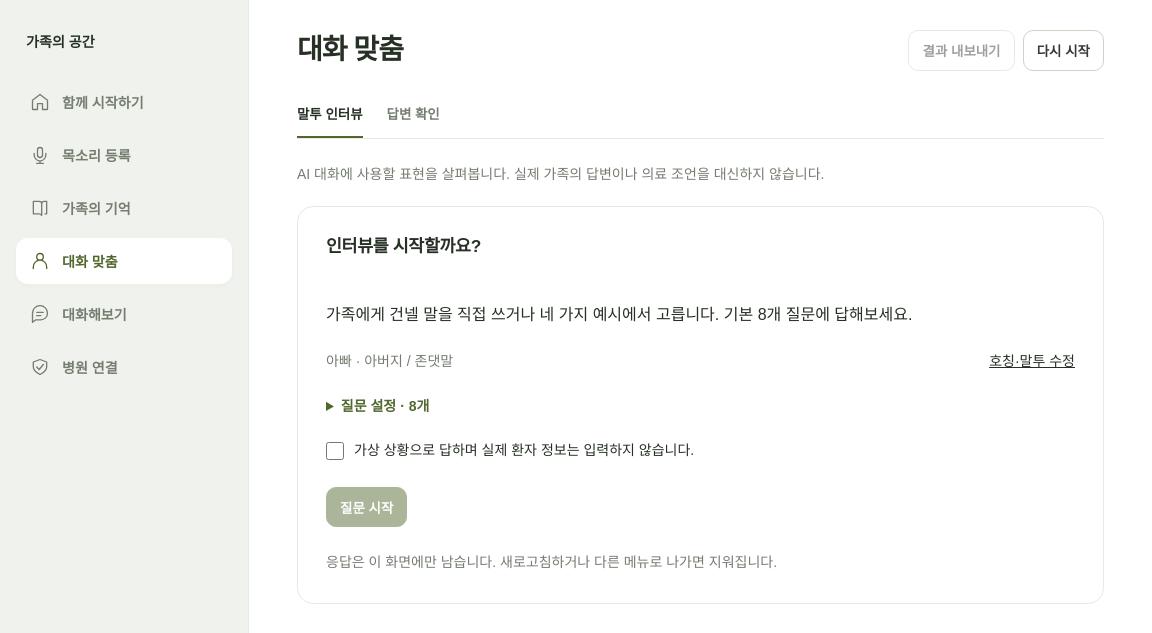
Test case: 대화 맞춤 › 명시적 동의 후에만 무료 모델 해석을 요청하고 결과를 반영한다
expect the button "질문 시작" is shown: met, box [326,487,407,527]
Click the checkbox labelled "가상 상황으로 답하며 실제 환자 정보는 입력하지 않습니다." at (335, 451), box [326,442,344,460]
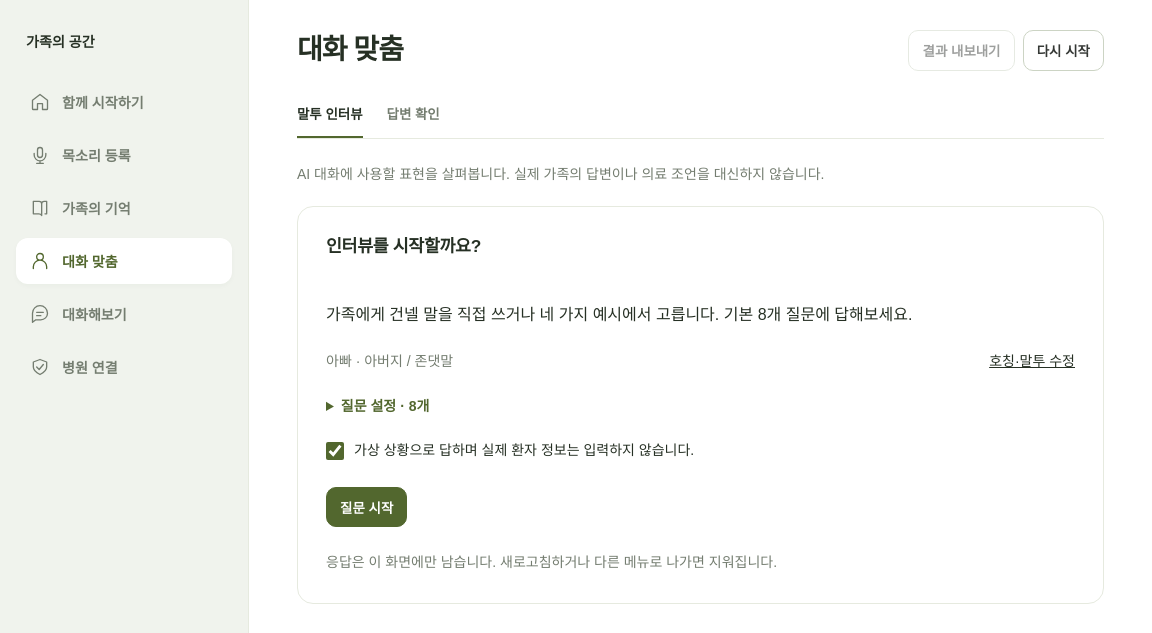
Click the button "질문 시작" at (367, 507), box [326,487,407,527]
(page scrolled)
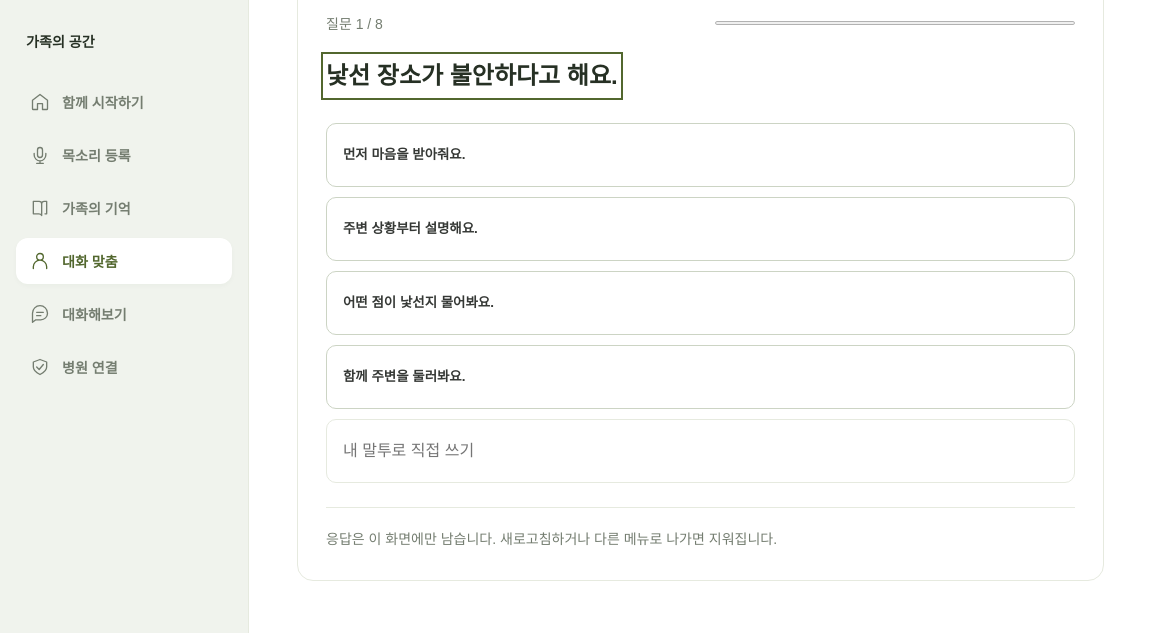
expect the text "낯선 장소가 불안하다고 해요." is shown: met, box [326,56,618,95]
Type "천천히 바꿔도 돼. 같이 다시 골라보자." into the field named "가족에게 건넬 말" at (700, 451), box [326,419,1075,483]
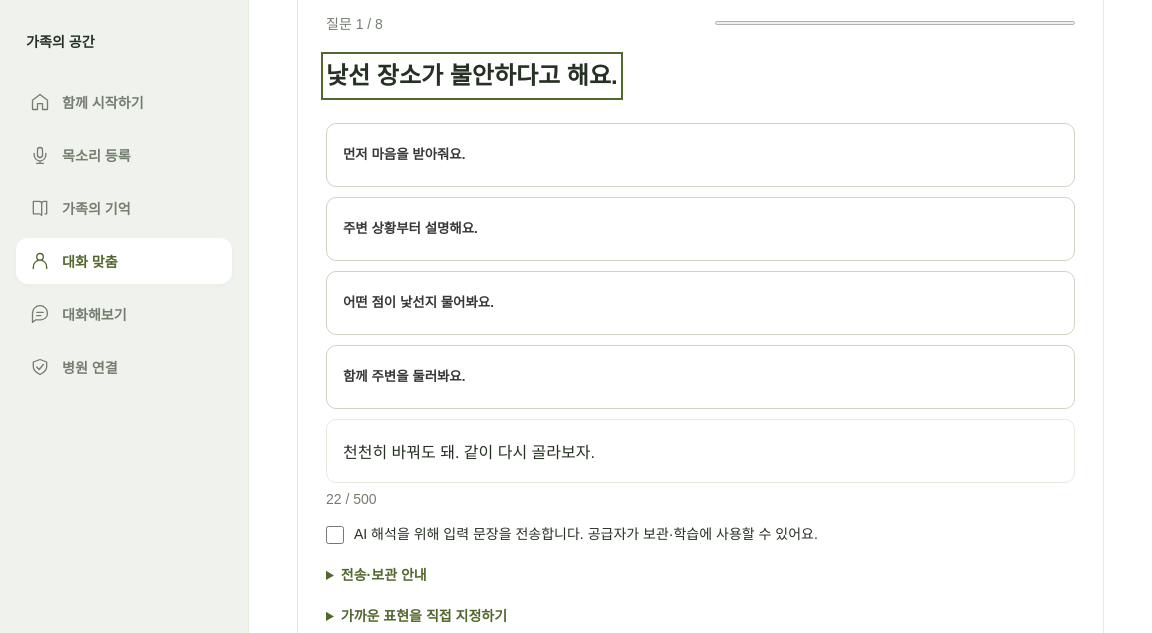
Click the checkbox labelled "AI 해석을 위해 입력 문장을 전송합니다. 공급자가 보관·학습에 사용할 수 있어요." at (335, 535), box [326,526,344,544]
(page scrolled)
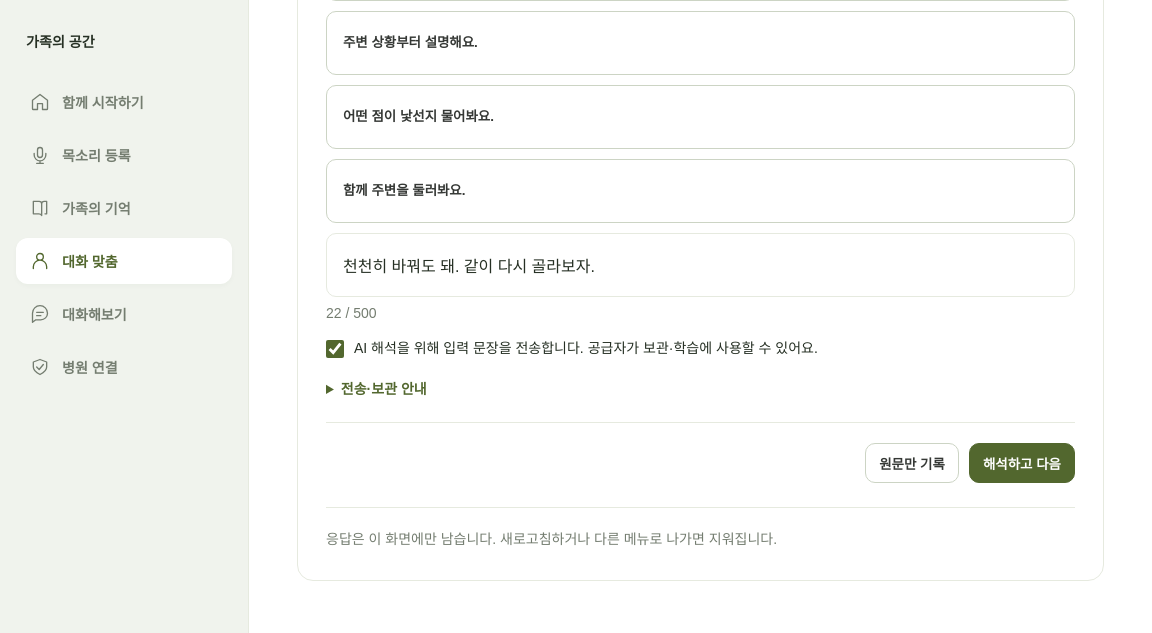
Click the button "해석하고 다음" at (1022, 463), box [969,443,1075,483]
(page scrolled)
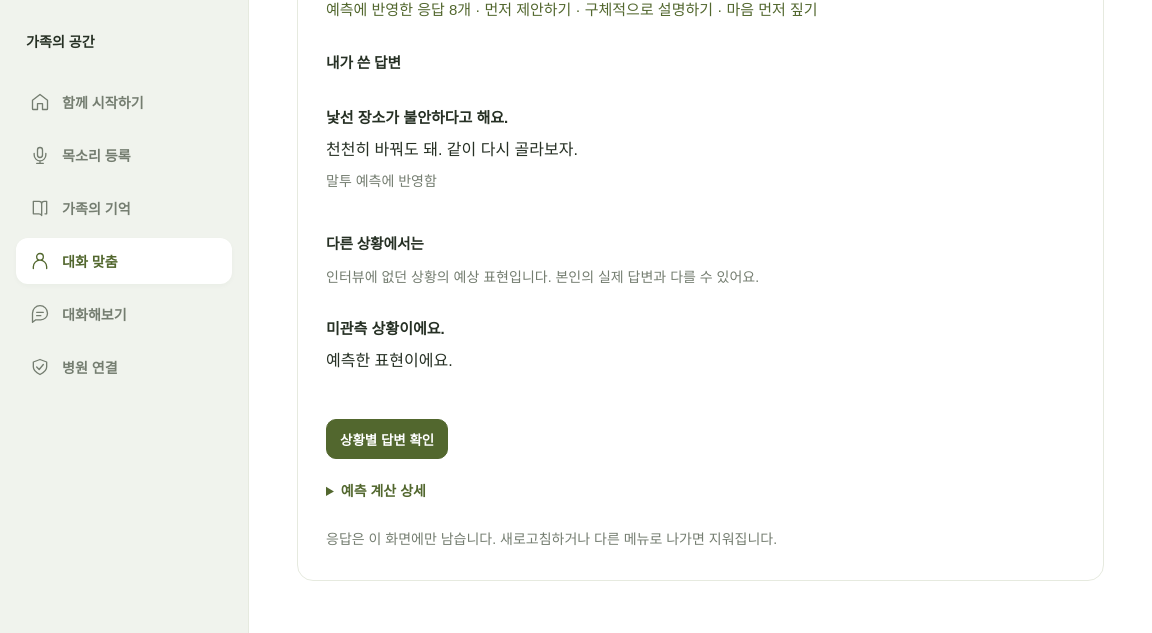
expect the heading "내가 쓴 답변" is shown: met, box [326,55,401,71]
